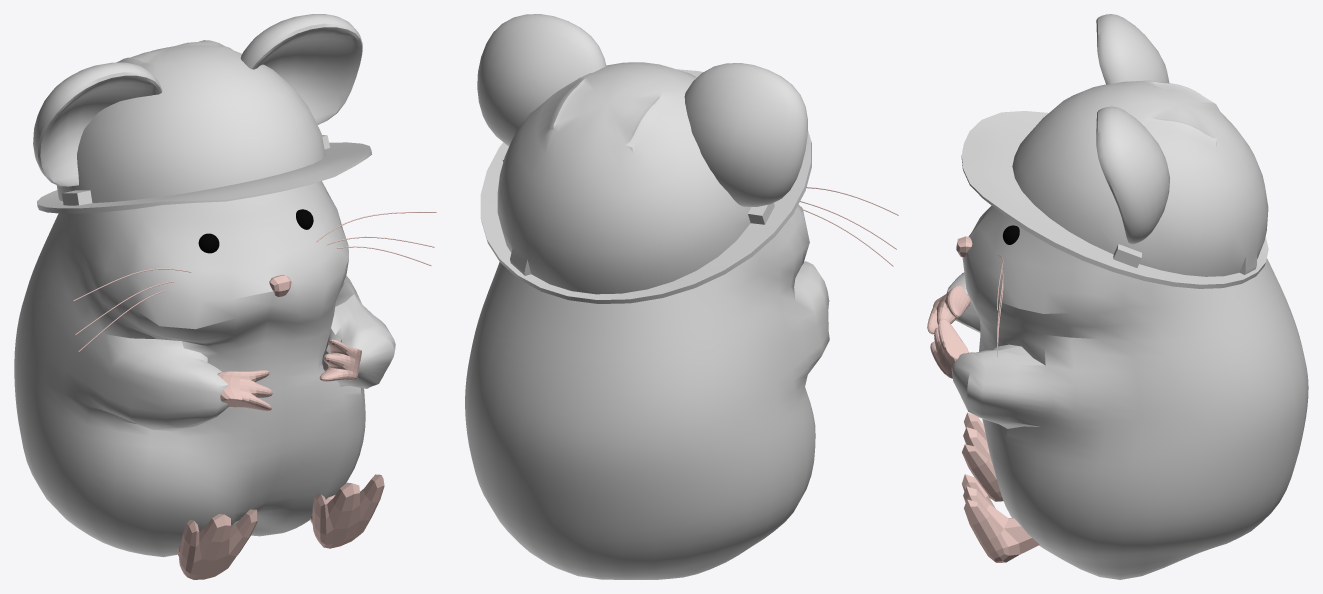
Rendered from mouse1.fbx.
3 renders of one model, left to right at view 1: azimuth 30°, elevation 25°; view 2: azimuth 150°, elevation 25°; view 3: azimuth 270°, elevation 25°, orthographic. The views are drawn at different scales.
Parts seen in each view (by area): view 1: 立方体.025, 球体.009, 立方体.024, 立方体.026, 立方体.028, 立方体.029, 贝塞尔曲线; view 2: 立方体.025, 球体.009, 立方体.024; view 3: 立方体.025, 球体.009, 立方体.024, 立方体.026, 立方体.029, 立方体.028.
Part boxes in pixels (left/top/right/bottom): 立方体.025: left=14, top=181, right=395, bottom=557; 球体.009: left=37, top=40, right=372, bottom=213; 立方体.024: left=33, top=14, right=362, bottom=186; 立方体.026: left=177, top=474, right=384, bottom=579; 立方体.028: left=217, top=370, right=272, bottom=410; 立方体.029: left=319, top=339, right=361, bottom=381; 贝塞尔曲线: left=73, top=212, right=436, bottom=351; 立方体.025: left=465, top=204, right=829, bottom=579; 球体.009: left=480, top=62, right=811, bottom=303; 立方体.024: left=477, top=14, right=807, bottom=206; 立方体.025: left=946, top=205, right=1308, bottom=579; 球体.009: left=961, top=80, right=1268, bottom=288; 立方体.024: left=1096, top=14, right=1170, bottom=244; 立方体.026: left=962, top=412, right=1039, bottom=562; 立方体.029: left=930, top=318, right=968, bottom=378; 立方体.028: left=927, top=285, right=970, bottom=334.
Bounding box in the file's own units: 52.22 × 69.38 × 49.93.
